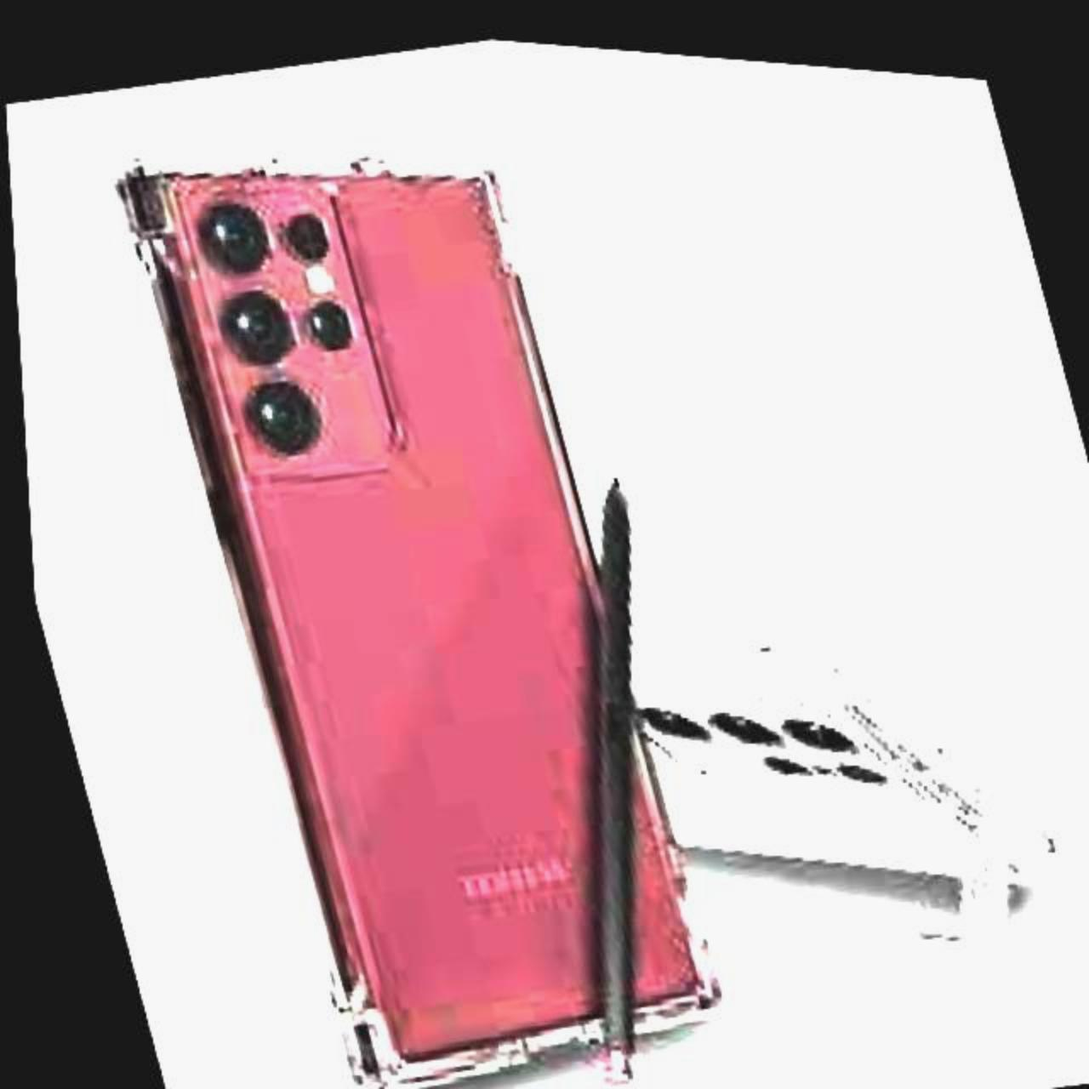phone: (123, 140, 725, 1069)
